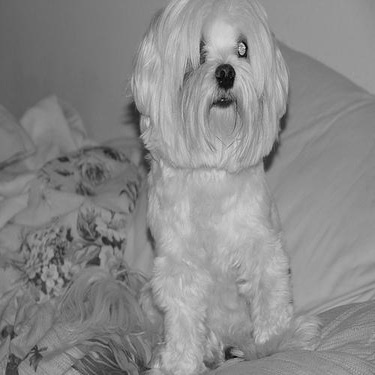dog: (93, 3, 328, 374)
